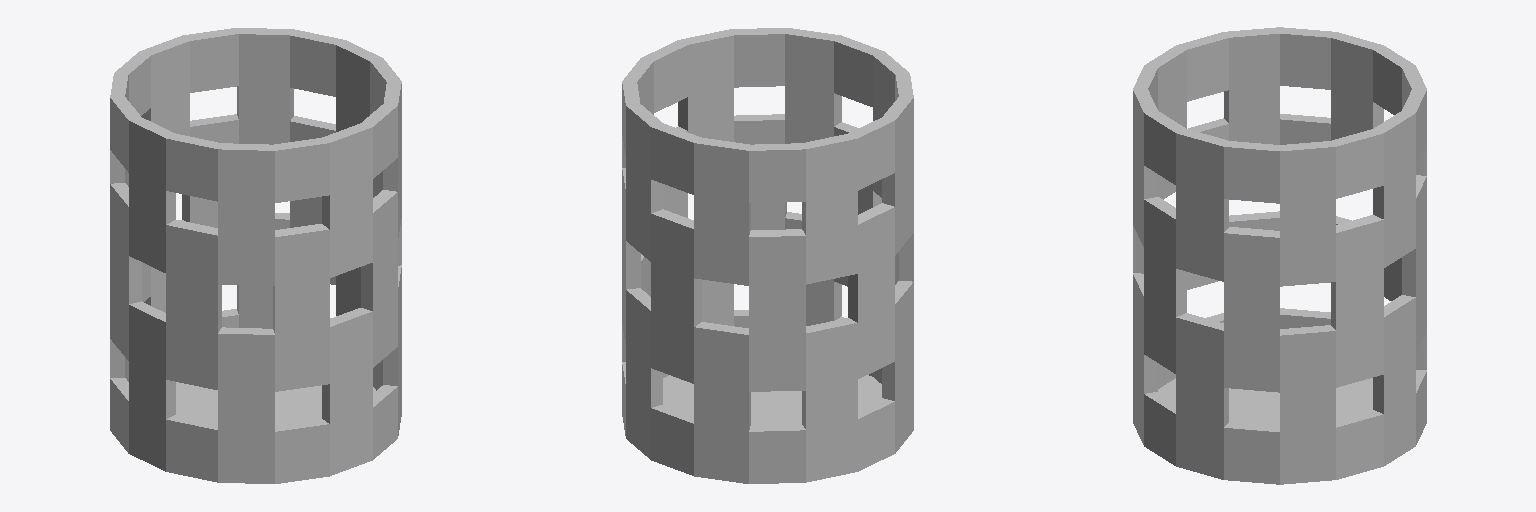
File: PenHolderCup.obj
3 renders of one model, left to right at view 1: azimuth 30°, elevation 25°; view 2: azimuth 150°, elevation 25°; view 3: azimuth 270°, elevation 25°, orthographic.
Size of the model in its own units: 0.08 by 0.1 by 0.08.